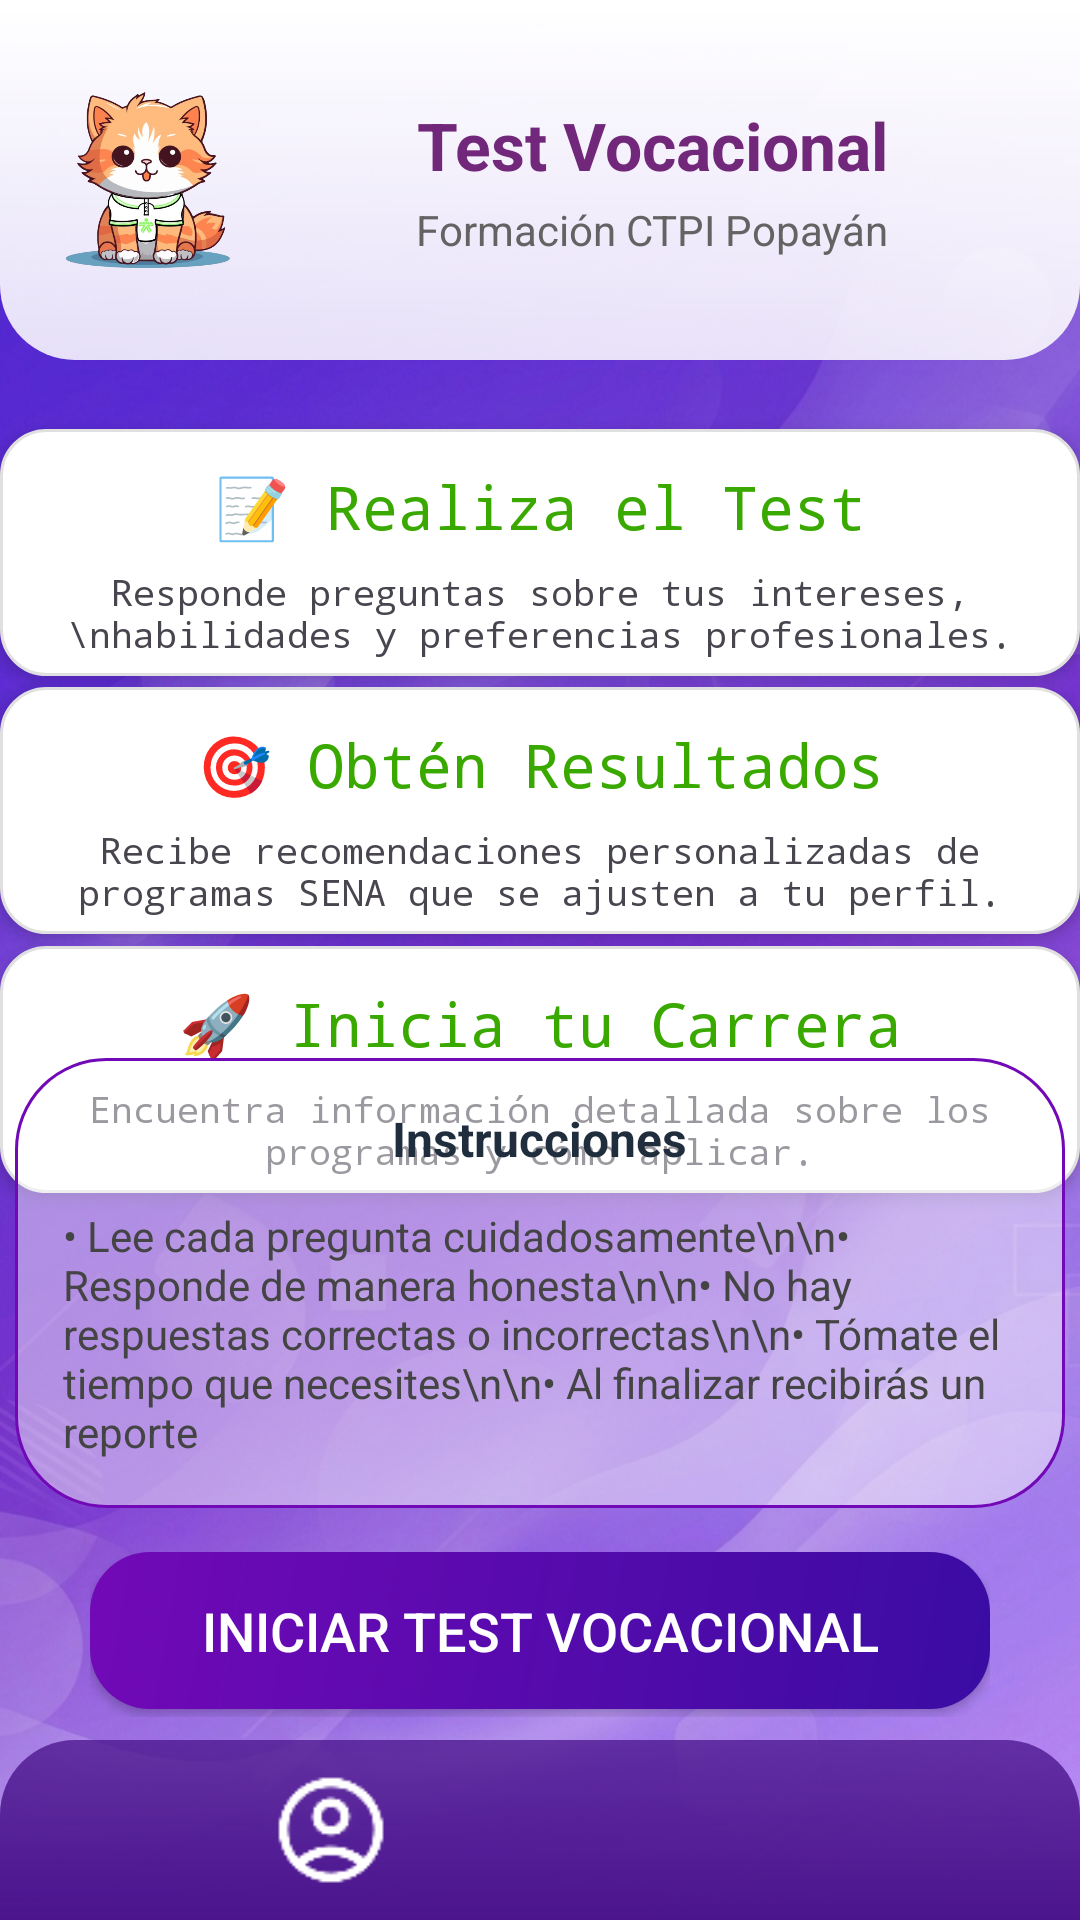

Named icons in this screenshot (1080x1920) and their bounding boxes, bbox=(x1, y1, x2, y2):
gato: bbox=(66, 92, 230, 268)
